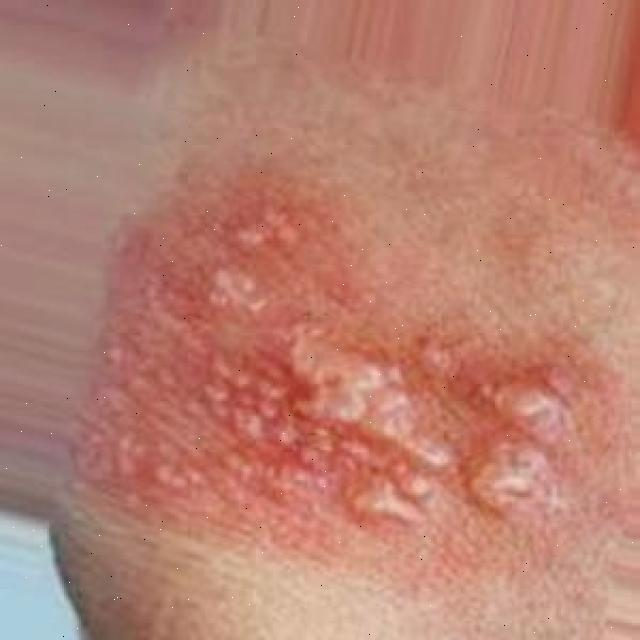Shingles: (126, 252, 587, 562)
